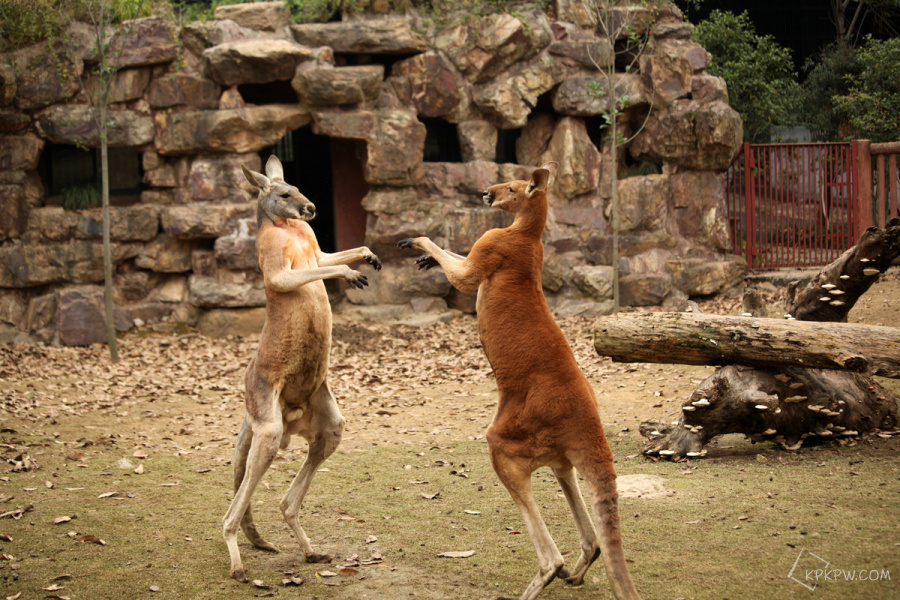kangaroo: (395, 156, 674, 597), (214, 145, 389, 589)
